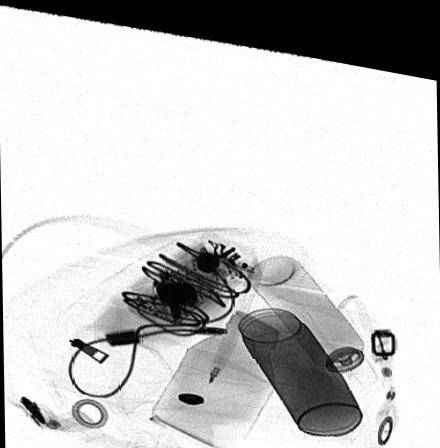Sprayer: (243, 243, 376, 377)
